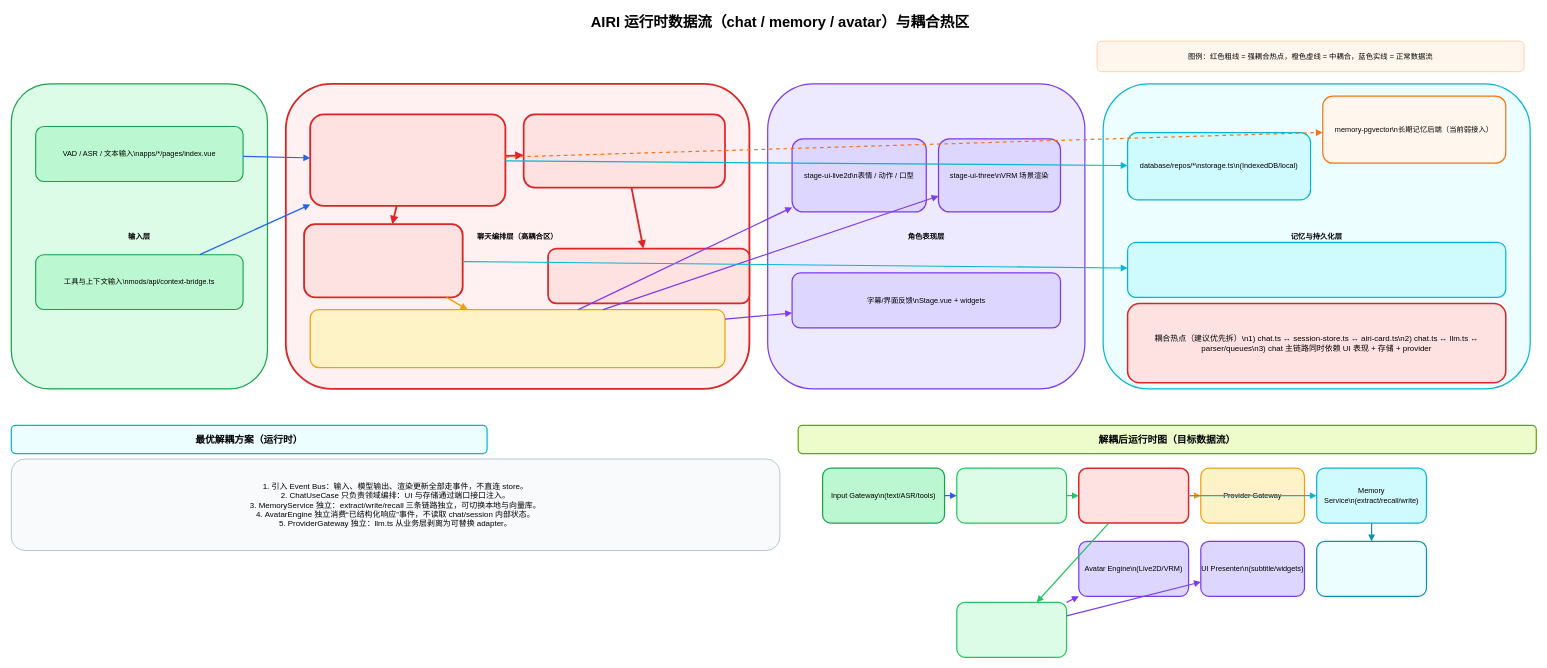
Some shapes in this 1547 by 668 pixel diagram are drawn without their labels. Here are the shapes that lost their labels. From the top down, the centre of each, then its label:
pixel 407 159: chat.ts\nuseChatOrchestratorStore\n组装消息 + 调度 hooks + 流式拼装
pixel 624 150: chat/session-store.ts\n会话维护 + 系统提示注入
pixel 383 260: llm.ts\nprovider stream + tools
pixel 648 275: modules/airi-card.ts\n人设卡 + systemPrompt
pixel 1316 270: server-sdk / server-runtime\n远端能力与通道
pixel 517 338: llm-marker-parser.ts\nresponse-categoriser.ts\nqueues.ts（情绪/延迟）
pixel 1011 495: Inbound Event Bus
pixel 1133 495: ChatUseCase\n(纯领域编排)
pixel 1371 568: Storage Adapter\n(local/indexeddb/pgvector)
pixel 1011 629: Outbound Event Bus
